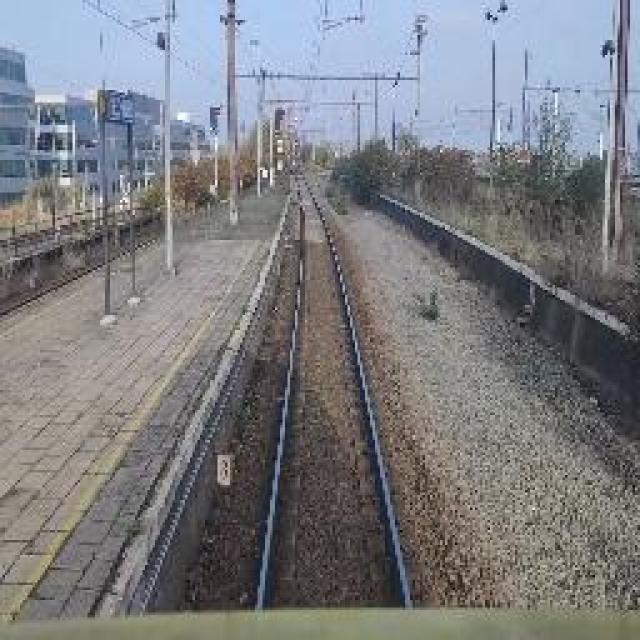rail: (199, 163, 442, 607)
